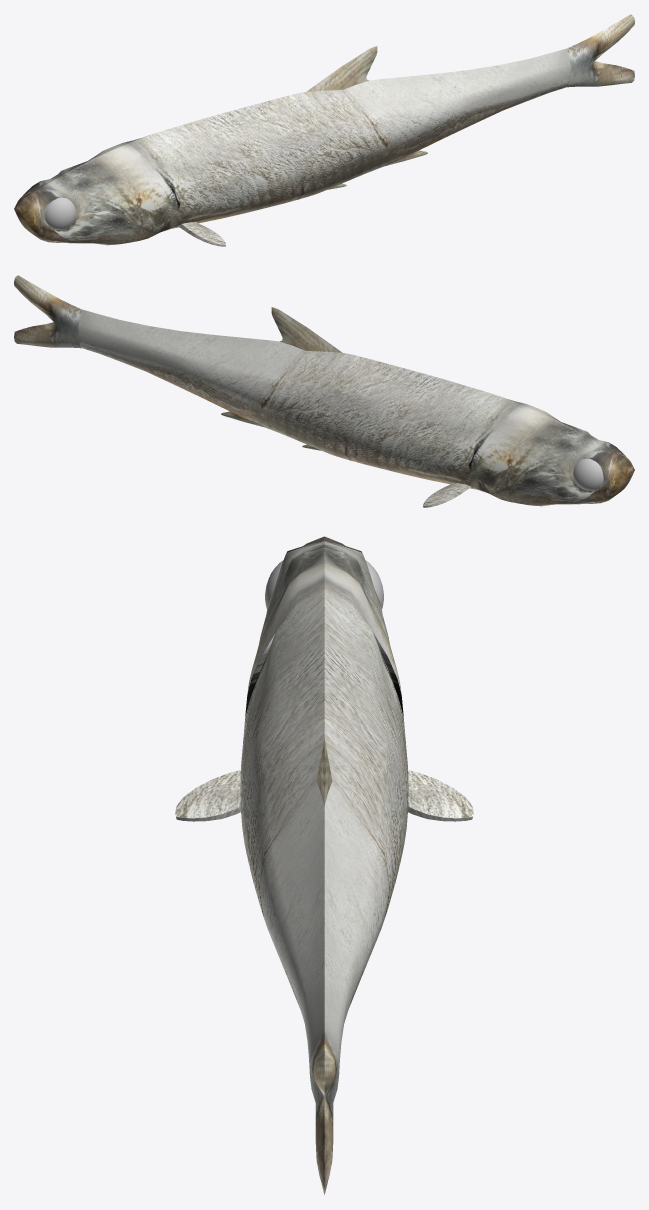
Rendered from Anchovy 1.FBX.
The picture shows the model from 3 angles, top to bottom: view 1: azimuth 30°, elevation 25°; view 2: azimuth 150°, elevation 25°; view 3: azimuth 270°, elevation 25°; orthographic projection. The views are drawn at different scales.
Parts seen in each view (by area): view 1: Body_Skin_L, Tale_Fin, Dorsal_Fin_Skin, Eye_L, Pectoral_L, Body_Skin_R; view 2: Body_Skin_R, Tale_Fin, Dorsal_Fin_Skin, Eye_R, Pectoral_R, Body_Skin_L; view 3: Body_Skin_R, Body_Skin_L, Tale_Fin, Pectoral_R, Pectoral_L.
Part boxes in pixels (x1,y1,x2,y2): Body_Skin_L: [16, 48, 570, 245]; Tale_Fin: [567, 14, 634, 87]; Dorsal_Fin_Skin: [307, 46, 377, 91]; Eye_L: [45, 197, 75, 229]; Pectoral_L: [177, 221, 225, 246]; Body_Skin_R: [14, 135, 149, 228]; Body_Skin_R: [78, 309, 632, 506]; Tale_Fin: [14, 275, 81, 348]; Dorsal_Fin_Skin: [271, 307, 341, 352]; Eye_R: [573, 458, 603, 490]; Pectoral_R: [423, 482, 471, 507]; Body_Skin_L: [499, 396, 634, 489]; Body_Skin_R: [324, 537, 408, 1074]; Body_Skin_L: [240, 536, 324, 1074]; Tale_Fin: [310, 1031, 338, 1195]; Pectoral_R: [408, 770, 473, 821]; Pectoral_L: [175, 770, 240, 821].
Size of the model in its own units: 1784 by 365 by 373.
